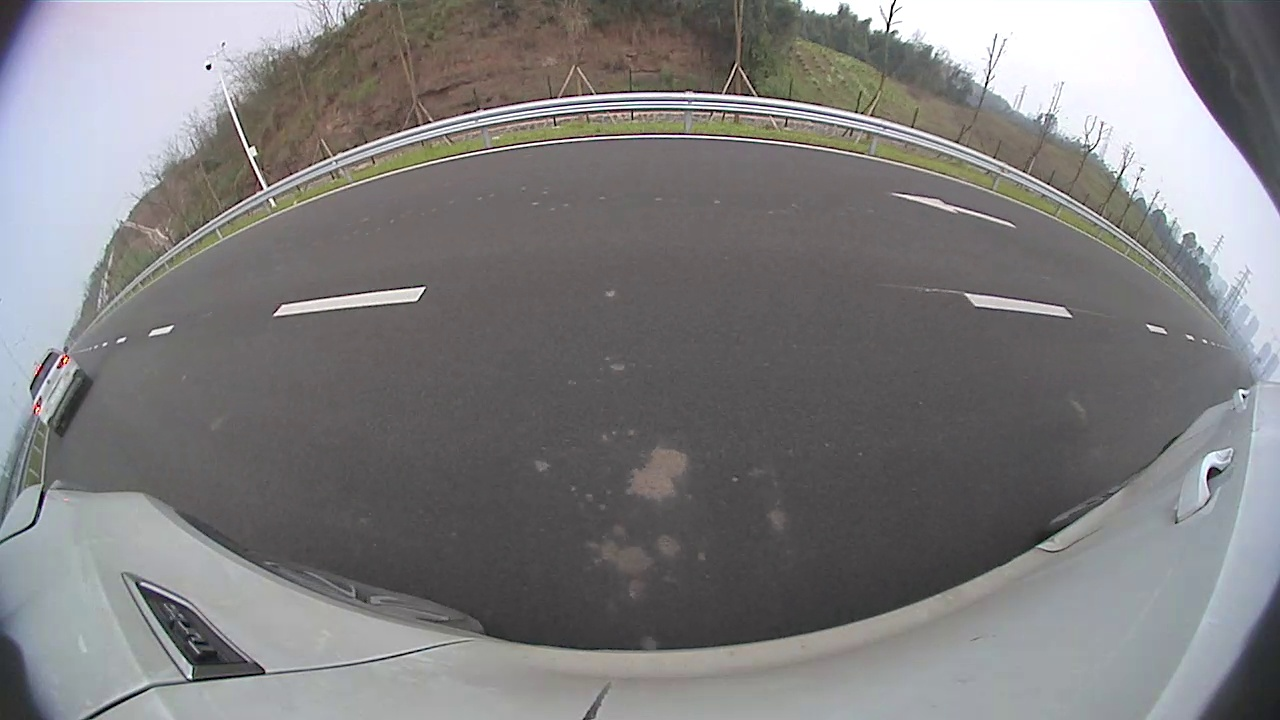car: (29, 349, 93, 438)
